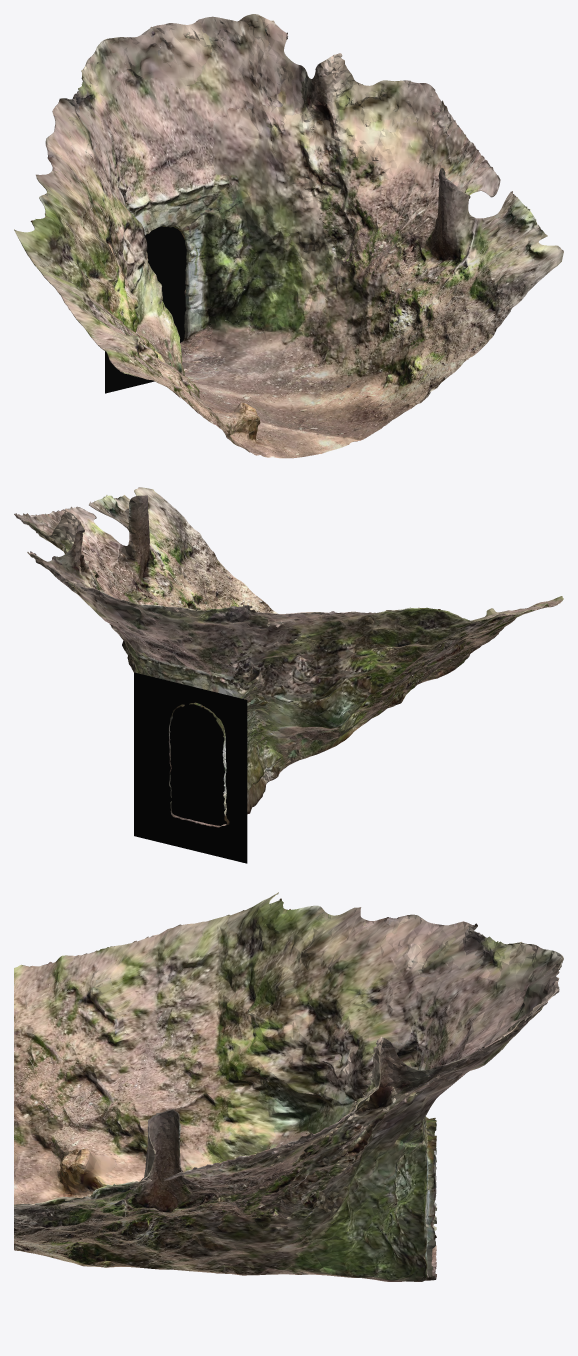
File: Eingang_Stollen_Humboldt.glb
3 renders of one model, top to bottom at view 1: azimuth 30°, elevation 25°; view 2: azimuth 150°, elevation 25°; view 3: azimuth 270°, elevation 25°, orthographic. The views are drawn at different scales.
Visible parts, largest first — view 1: Cube.004, Plane; view 2: Cube.004, Plane; view 3: Cube.004.
Boxes of the visible parts, <box> form: Cube.004: <box>14,14,563,458</box>; Plane: <box>105,226,186,393</box>; Cube.004: <box>14,487,563,827</box>; Plane: <box>134,672,247,863</box>; Cube.004: <box>14,892,563,1281</box>.
Bounding box in the file's own units: 7.46 × 4.92 × 6.85.
2 materials, 1 textured.
